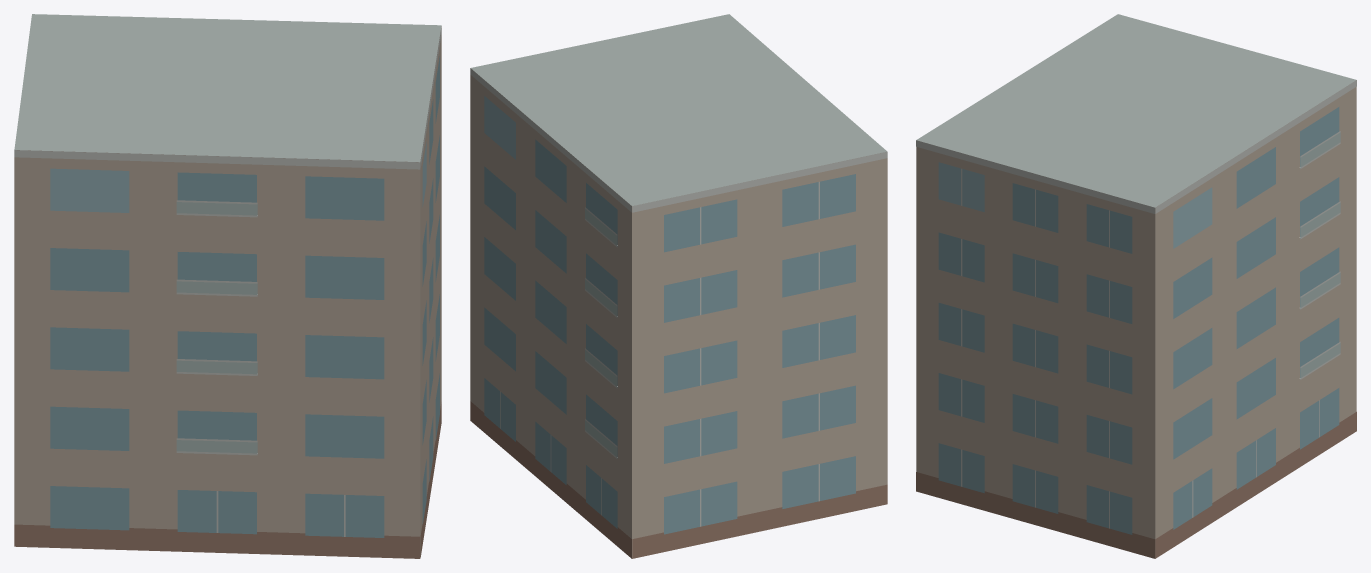
The model's file is survey-upis-32951764.glb.
3 views of the same model, side by side, from view 1: azimuth 30°, elevation 25°; view 2: azimuth 150°, elevation 25°; view 3: azimuth 270°, elevation 25° (orthographic). The views are drawn at different scales.
Visible parts, largest first — view 1: survey-upis-32951764.tmp; view 2: survey-upis-32951764.tmp; view 3: survey-upis-32951764.tmp.
Part boxes in pixels (x1,y1,x2,y2): survey-upis-32951764.tmp: (14,14,441,558); survey-upis-32951764.tmp: (470,14,887,558); survey-upis-32951764.tmp: (916,14,1356,558).
Bounding box in the file's own units: 15.5 × 13.1 × 14.91.
